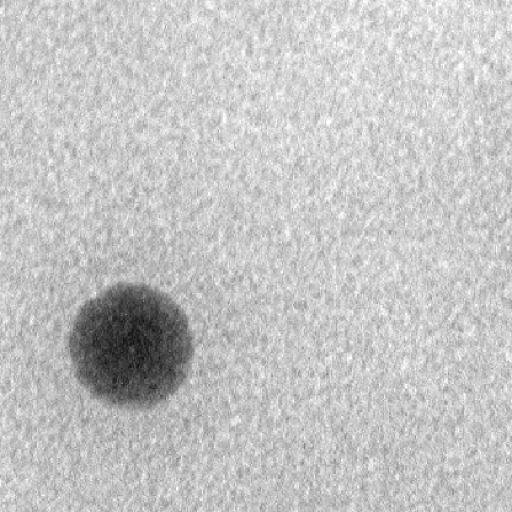Nanoparticles: (64, 278, 198, 410)
